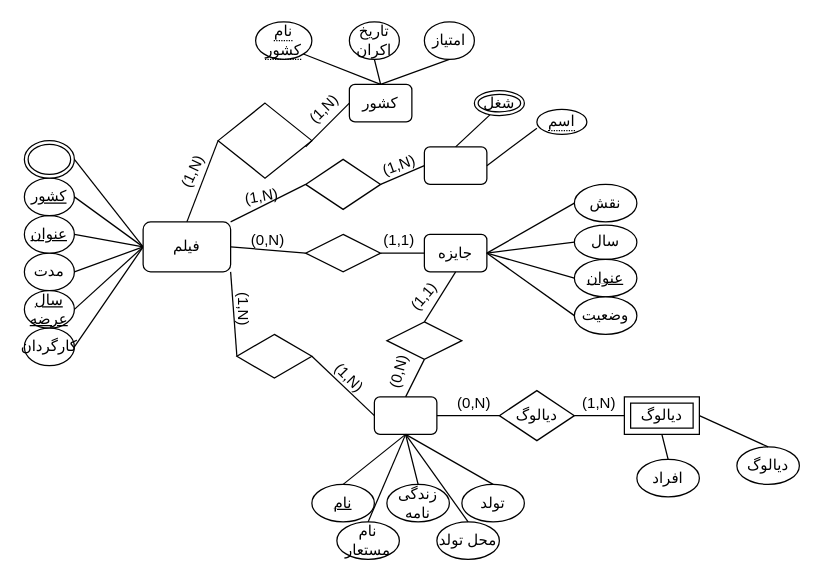
The diagram is 821 pixels wide and 581 high, and some of its shapes have lost their labels. The centre of each missing label's shape, as x and y in pixels:
"اکران شده در" belongs at [264,140].
"بازی کردن" belongs at [274,355].
"بازیگر" belongs at [405,415].
"جایزه گرفتن" belongs at [342,252].
"دست اندر کاران" belongs at [455,165].
"عامل فیلم" belongs at [342,183].
"نامزد شدن" belongs at [424,340].
"ژانر" belongs at [48,158].
